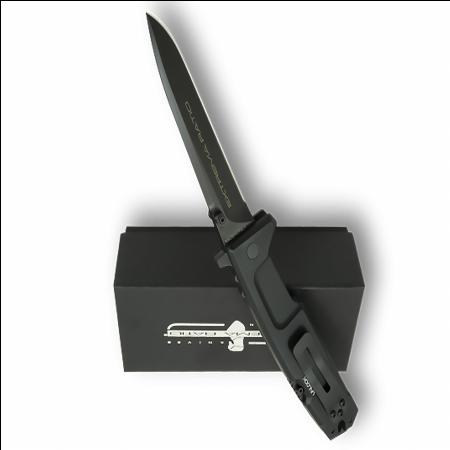long weapon: (144, 6, 258, 252)
